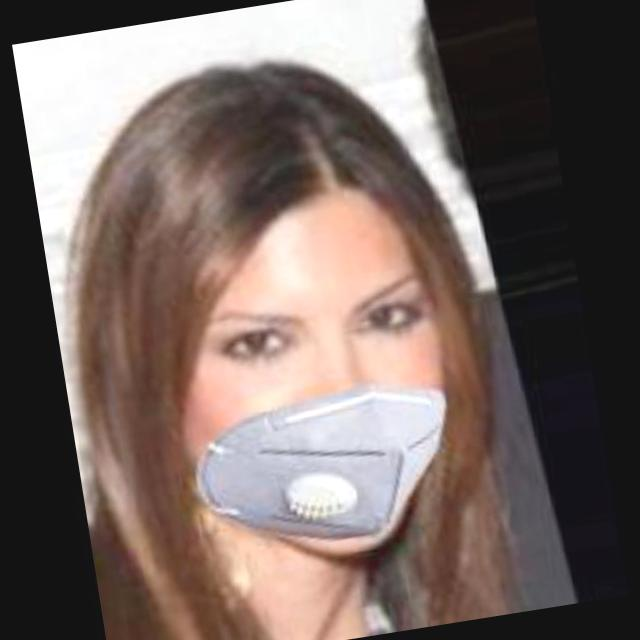suspicion: (82, 65, 520, 620)
